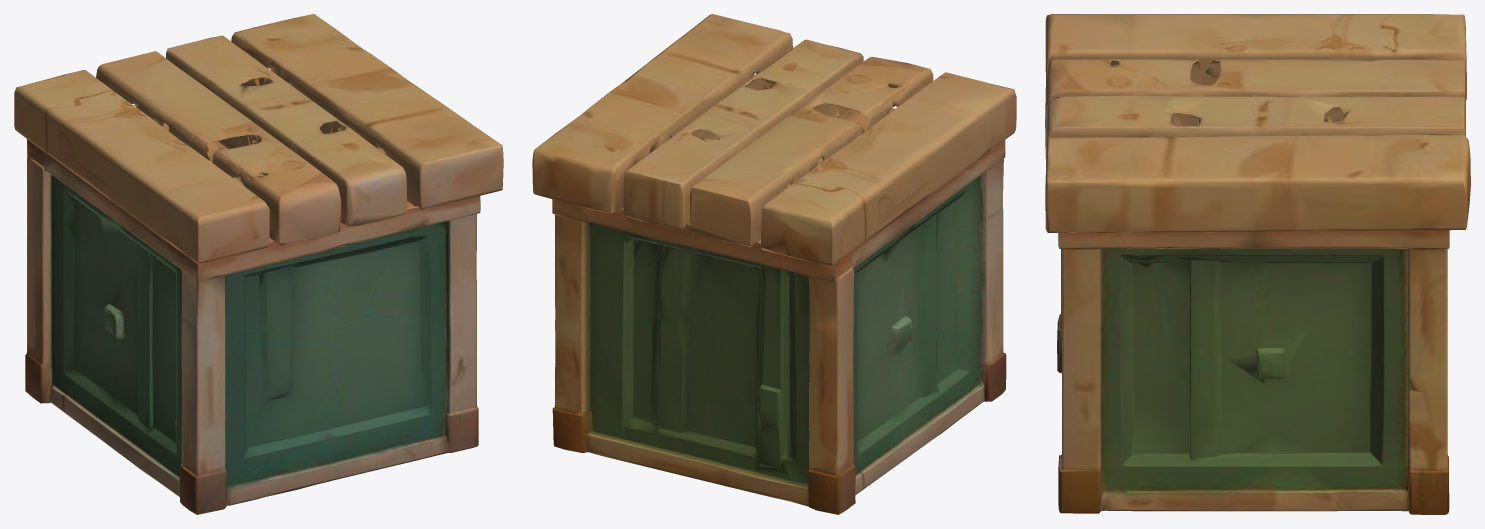
File: crate.glb
3 renders of one model, left to right at view 1: azimuth 30°, elevation 25°; view 2: azimuth 150°, elevation 25°; view 3: azimuth 270°, elevation 25°, orthographic. The views are drawn at different scales.
Parts seen in each view (by area): view 1: tripo_node_c0f587d2-1f8a-45ca-83fe-45dcad174dba; view 2: tripo_node_c0f587d2-1f8a-45ca-83fe-45dcad174dba; view 3: tripo_node_c0f587d2-1f8a-45ca-83fe-45dcad174dba.
Boxes of the visible parts, bbox=[...] form: tripo_node_c0f587d2-1f8a-45ca-83fe-45dcad174dba: bbox=[14, 14, 503, 514]; tripo_node_c0f587d2-1f8a-45ca-83fe-45dcad174dba: bbox=[532, 14, 1016, 514]; tripo_node_c0f587d2-1f8a-45ca-83fe-45dcad174dba: bbox=[1045, 14, 1470, 514].
Size of the model in its own units: 1.05 by 1 by 1.11.
Materials: 1 (1 with a texture image).
